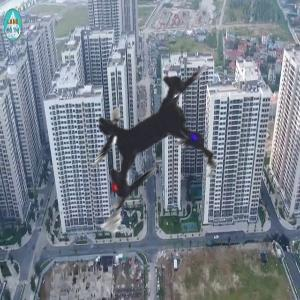drone: (11, 2, 294, 285)
